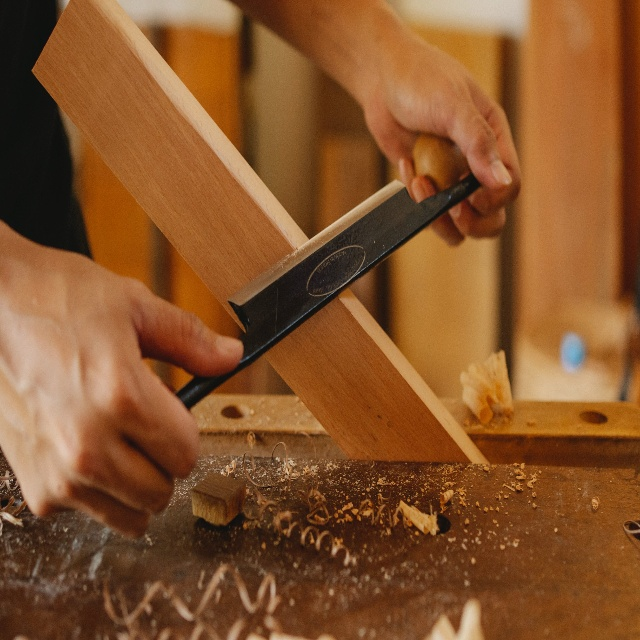Sin_guantes: (0, 231, 243, 540), (363, 29, 523, 248)
